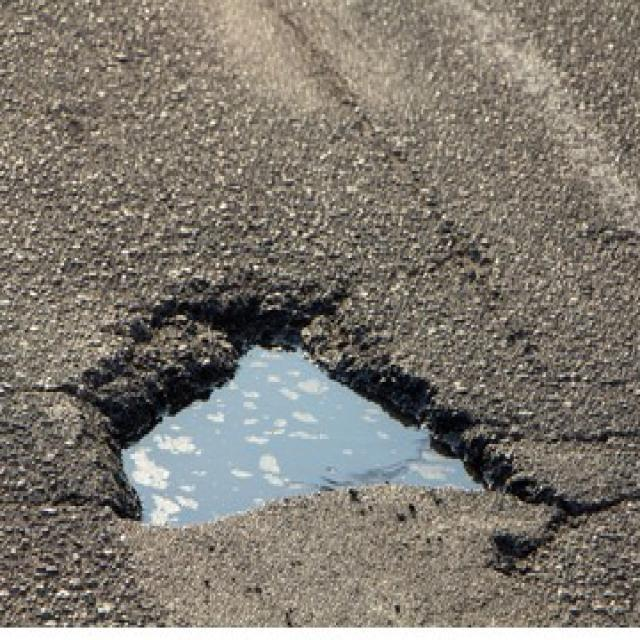Buraco: (46, 265, 640, 585)
